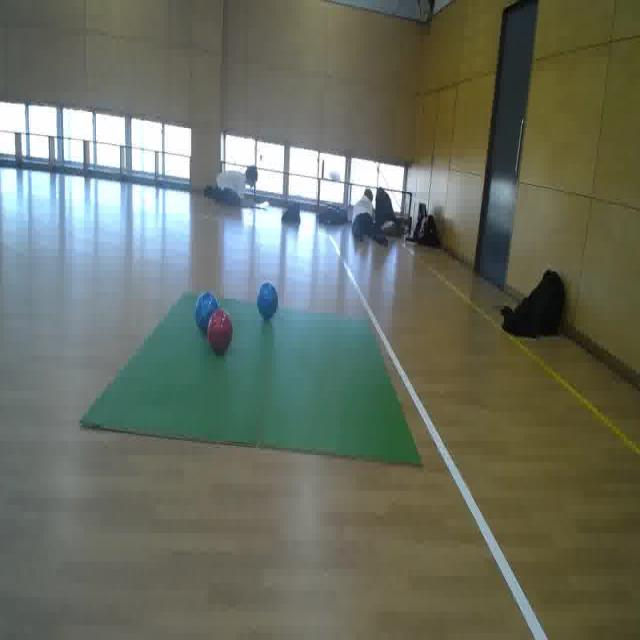blue_ball: (255, 279, 278, 321)
